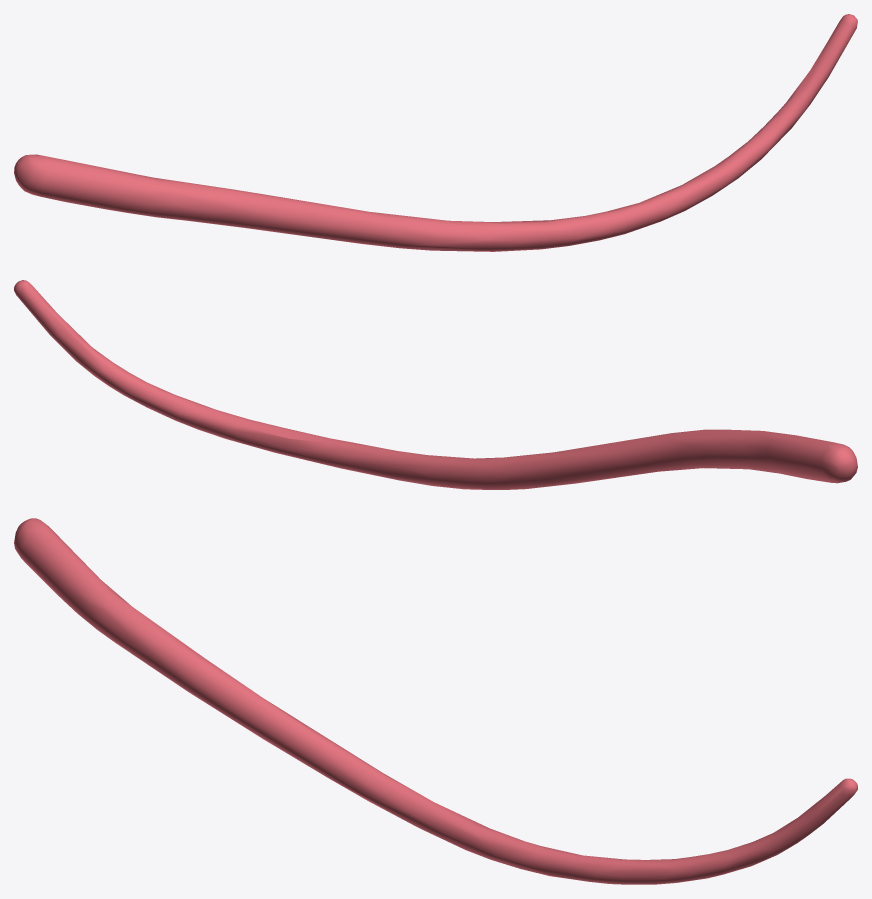
File: fma23073_fj2230.glb
3 views of the same model, one above another, from view 1: azimuth 30°, elevation 25°; view 2: azimuth 150°, elevation 25°; view 3: azimuth 330°, elevation 25° (orthographic). The views are drawn at different scales.
Parts seen in each view (by area): view 1: FMA23073_FJ2230; view 2: FMA23073_FJ2230; view 3: FMA23073_FJ2230.
Part boxes in pixels (x1=…): FMA23073_FJ2230: x1=14, y1=14, x2=857, y2=251; FMA23073_FJ2230: x1=14, y1=280, x2=857, y2=489; FMA23073_FJ2230: x1=14, y1=518, x2=857, y2=884.
Size of the model in its own units: 0.0499 by 0.0103 by 0.00609.
